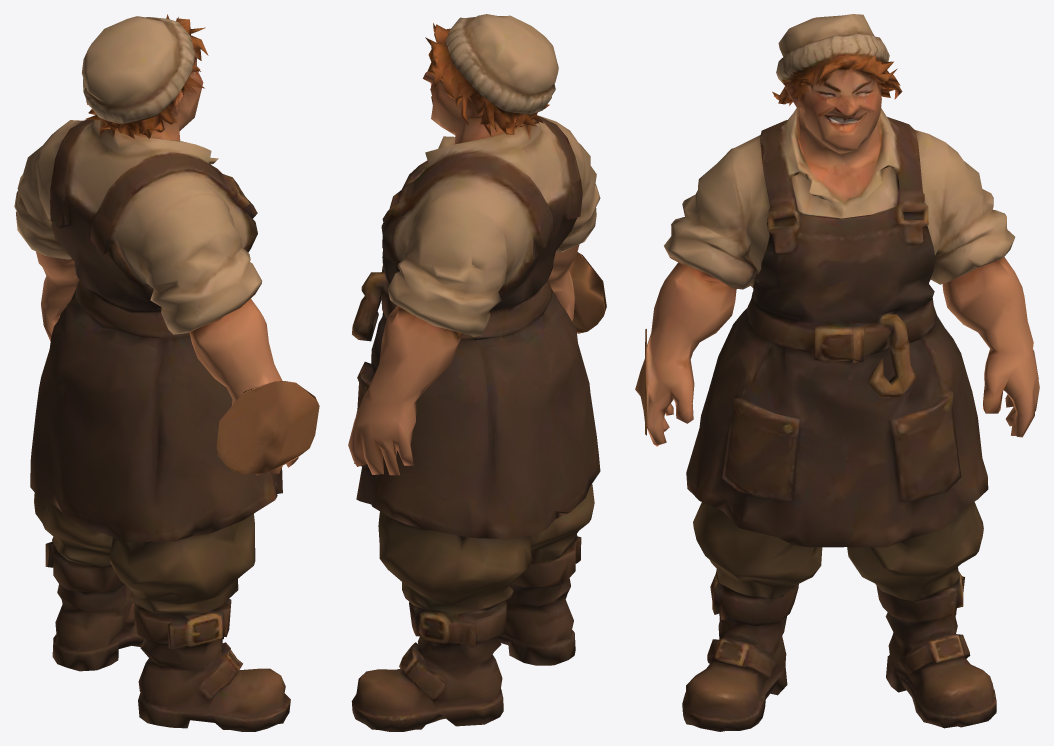
The model's file is model-npc-oona-01.glb.
The picture shows the model from 3 angles, left to right: view 1: azimuth 30°, elevation 25°; view 2: azimuth 150°, elevation 25°; view 3: azimuth 270°, elevation 25°; orthographic projection.
Visible parts, largest first — view 1: tripo_node_e665ea4e-a8a9-4032-a7d7-b616f1a93bcc; view 2: tripo_node_e665ea4e-a8a9-4032-a7d7-b616f1a93bcc; view 3: tripo_node_e665ea4e-a8a9-4032-a7d7-b616f1a93bcc.
Part boxes in pixels (x1,y1,x2,y2): tripo_node_e665ea4e-a8a9-4032-a7d7-b616f1a93bcc: (14, 14, 319, 731); tripo_node_e665ea4e-a8a9-4032-a7d7-b616f1a93bcc: (348, 14, 606, 731); tripo_node_e665ea4e-a8a9-4032-a7d7-b616f1a93bcc: (635, 14, 1039, 731).
Size of the model in its own units: 0.5388 by 1.8 by 0.9748.
Materials: 1 (1 with a texture image).
